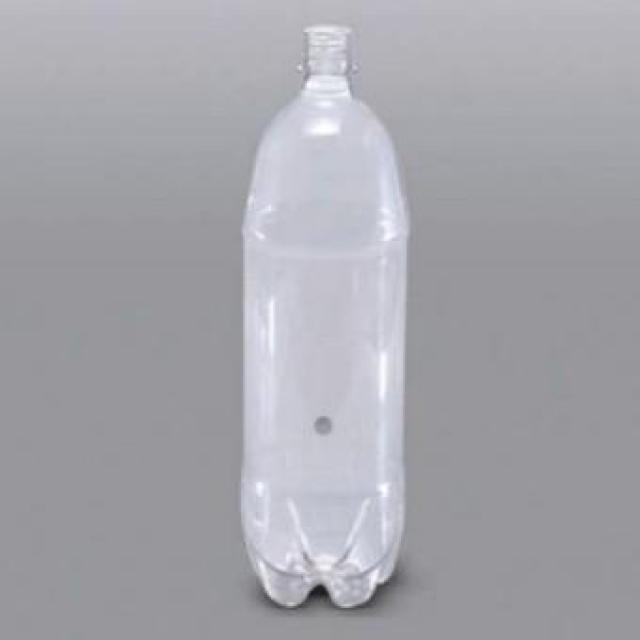bottle: (236, 25, 404, 607)
